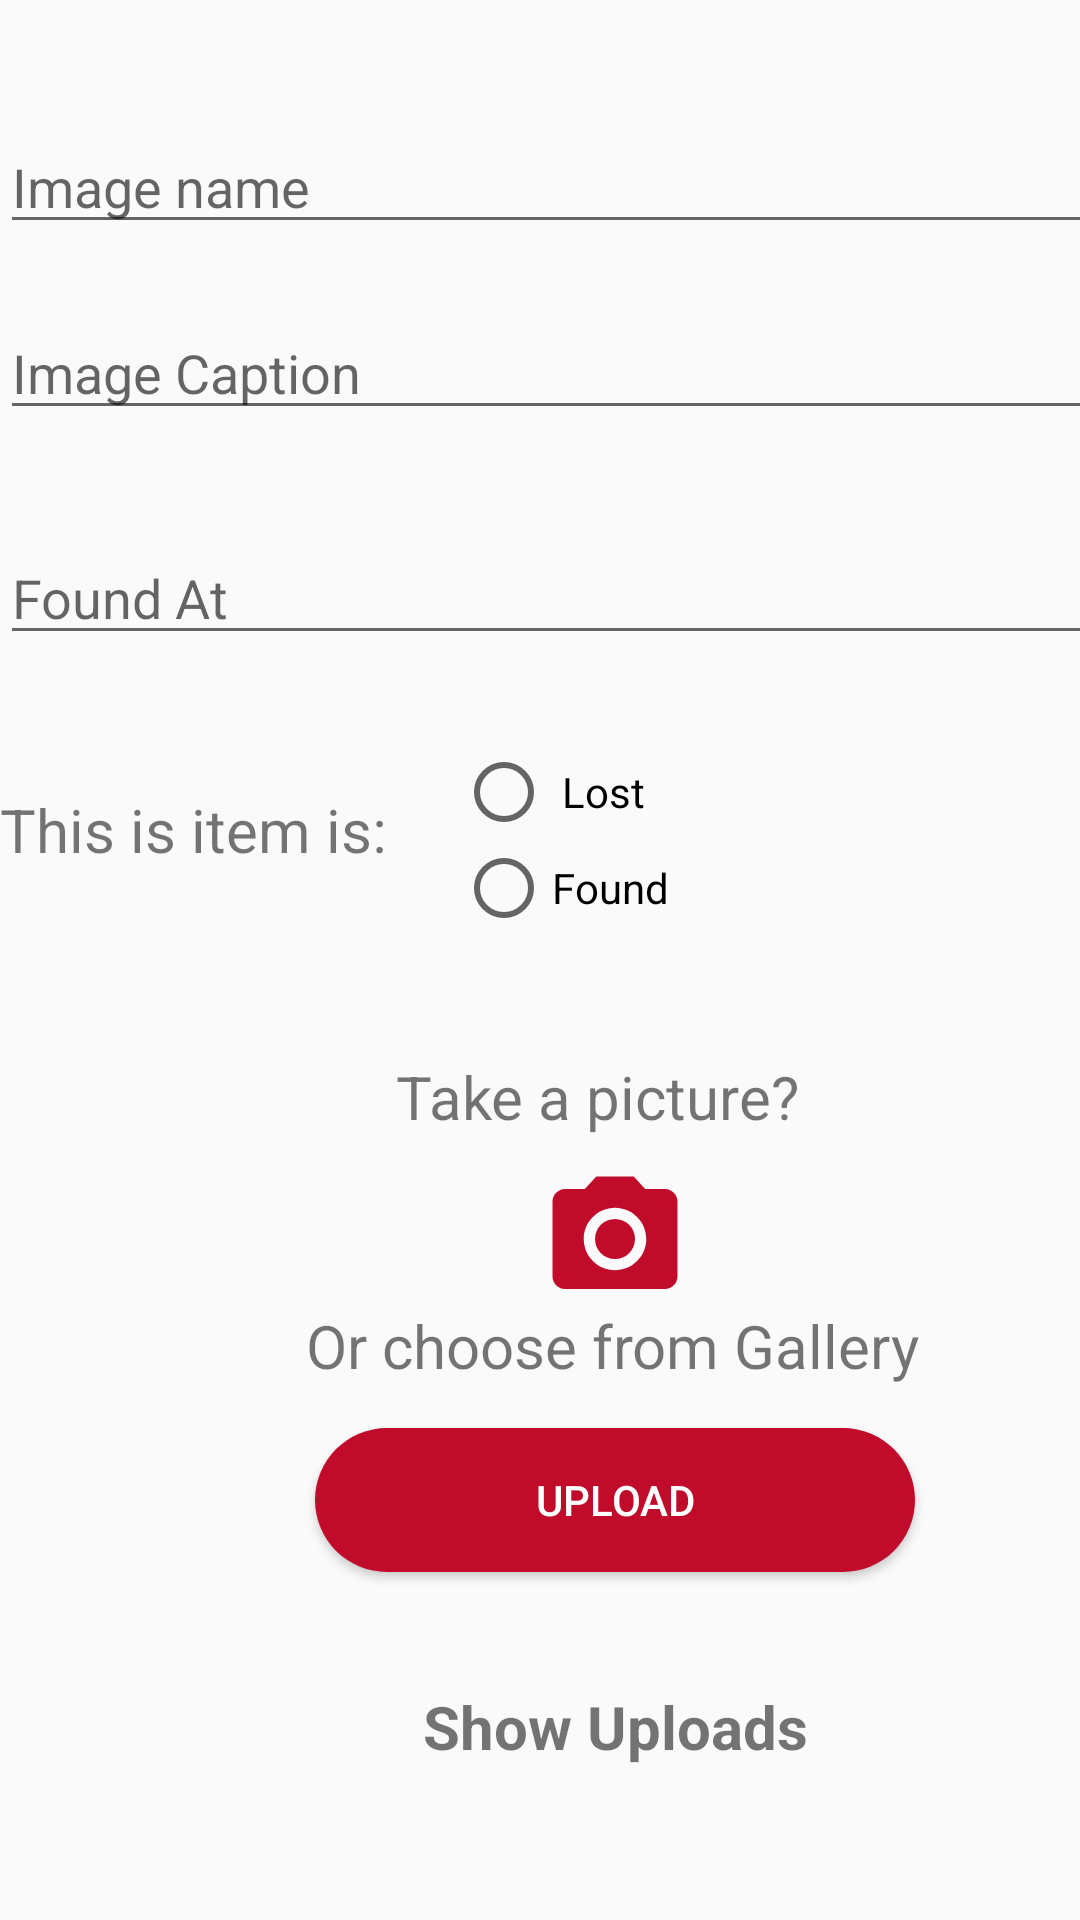

Named icons in this screenshot (1080x1920) and their bounding boxes, (x1, y1, x2, y2):
camera: (552, 1176, 678, 1289)
